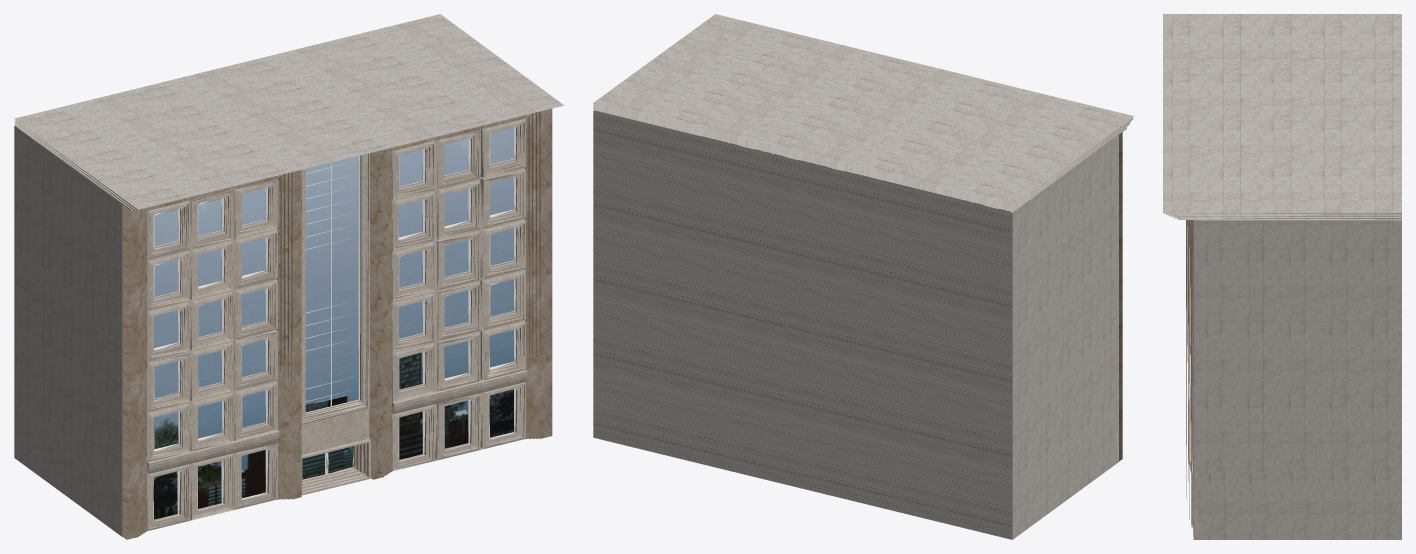
File: Building.glb
The picture shows the model from 3 angles, left to right: view 1: azimuth 30°, elevation 25°; view 2: azimuth 150°, elevation 25°; view 3: azimuth 270°, elevation 25°; orthographic projection. The views are drawn at different scales.
Parts seen in each view (by area): view 1: Building; view 2: Building; view 3: Building.
Part boxes in pixels (left/top/right/bottom): Building: left=14, top=14, right=564, bottom=539; Building: left=593, top=14, right=1134, bottom=539; Building: left=1163, top=14, right=1401, bottom=539.
Bounding box in the file's own units: 22.34 × 17.05 × 11.28.
5 materials, 4 textured.
